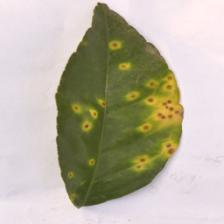canker: (118, 73, 192, 184)
